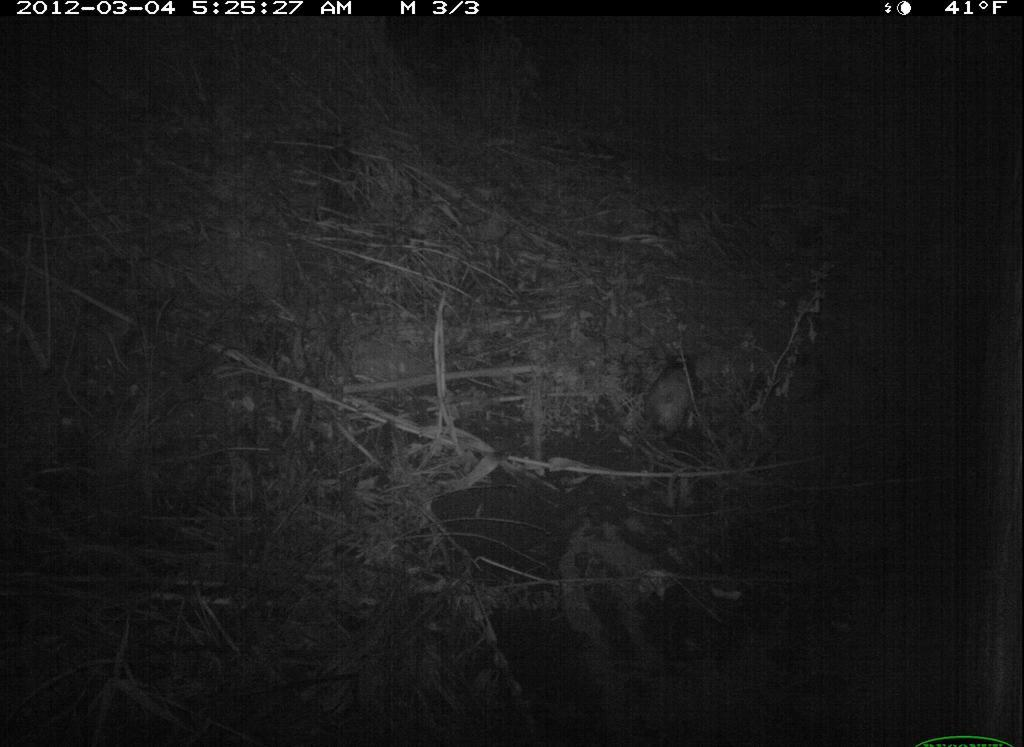opossum: (617, 337, 705, 468)
